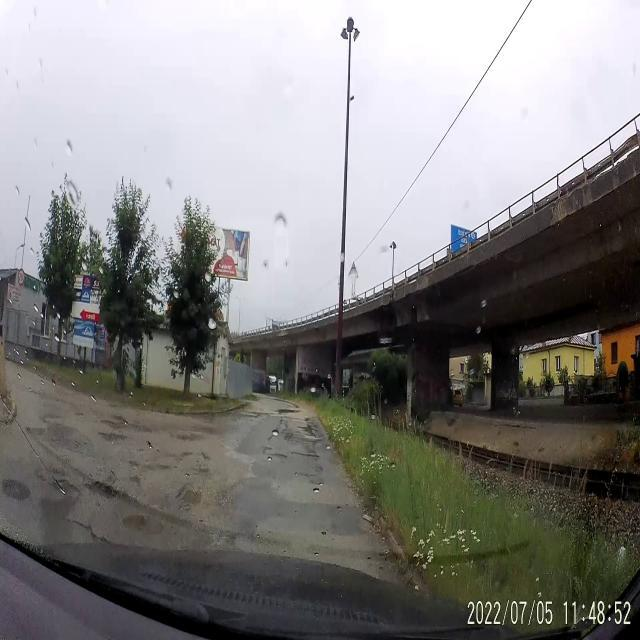Manhole: (122, 507, 167, 538), (1, 476, 36, 506)
Pothole: (174, 480, 204, 516), (54, 468, 79, 510), (290, 448, 327, 473), (85, 478, 116, 503), (294, 420, 324, 440), (263, 442, 287, 466), (96, 428, 125, 446), (101, 414, 127, 428)
